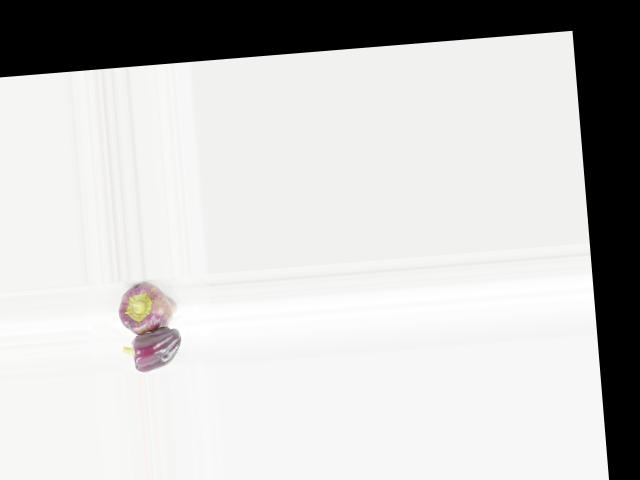bell_pepper: (104, 277, 189, 338)
